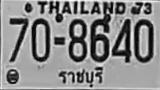0: (134, 18, 154, 62), (31, 17, 49, 61)
4: (111, 18, 130, 62)
6: (90, 17, 110, 61)
7: (9, 17, 28, 61)
8: (68, 18, 86, 61)
RBR: (57, 66, 104, 89)
